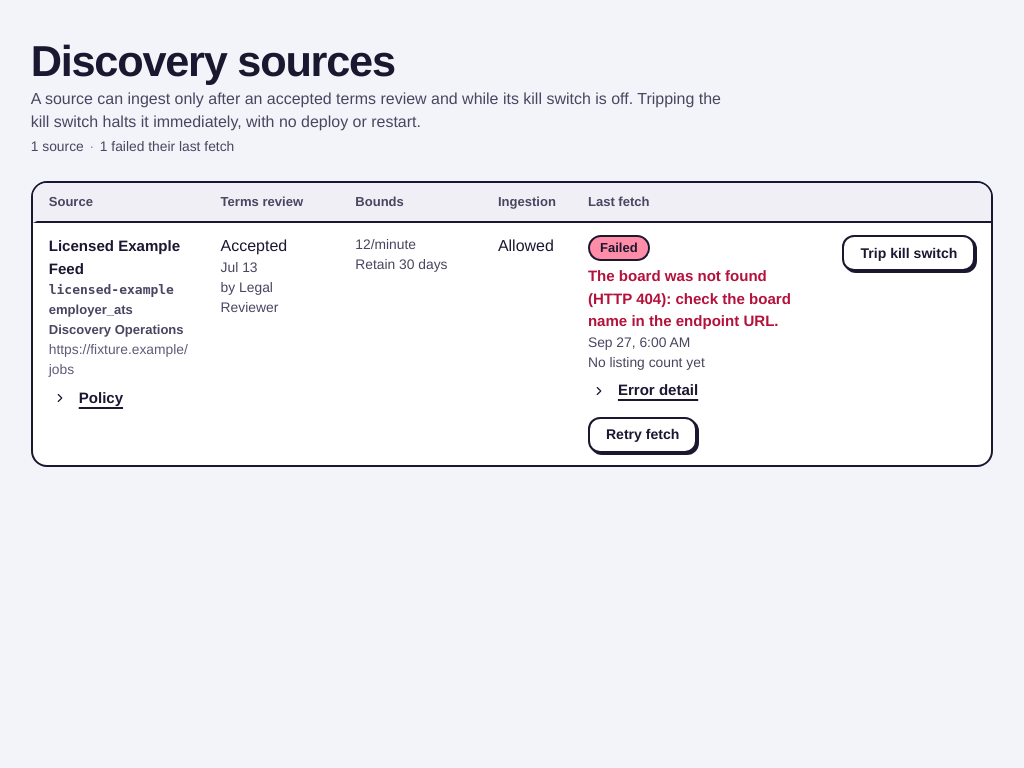
Scenario: AdminDiscoverySourcesPage › says why a retry did not run, in the rate-limit words of the error mapper
The image size is (1024, 768).
Click the button "Retry fetch": (643,434) [588,416,697,452]
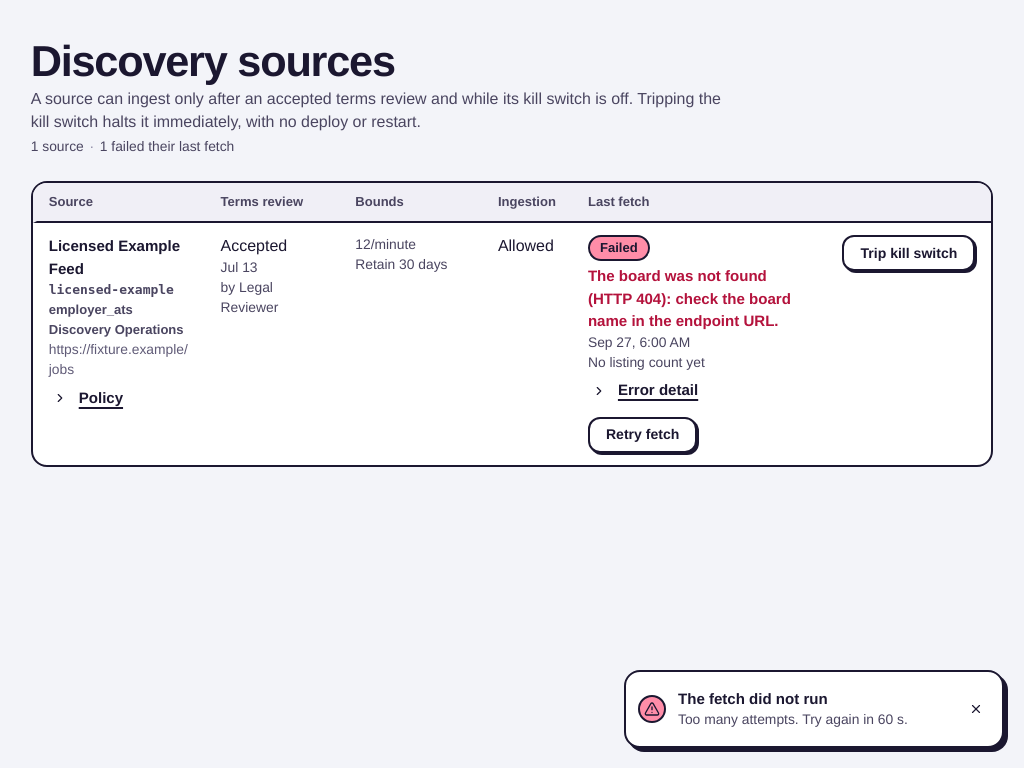
Expected: the text "The fetch did not run Too many attempts. Try again in 60 s." is shown, [624,670,1004,748]
